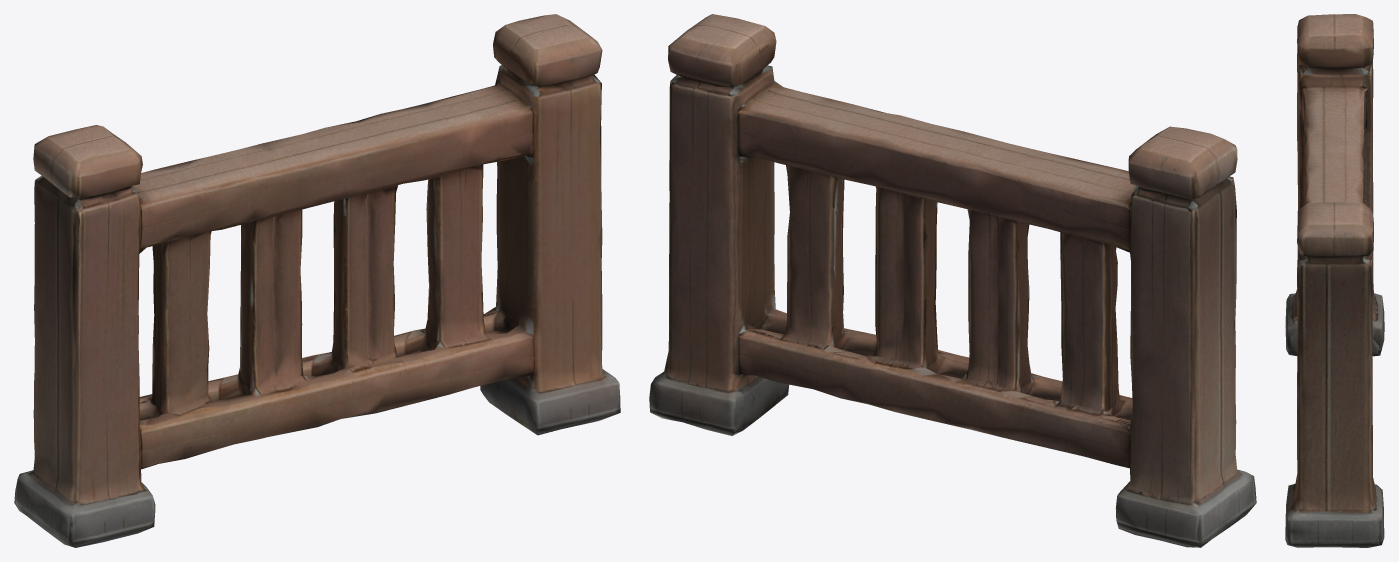
The picture shows the model from 3 angles, left to right: view 1: azimuth 30°, elevation 25°; view 2: azimuth 150°, elevation 25°; view 3: azimuth 270°, elevation 25°; orthographic projection. The views are drawn at different scales.
Visible parts, largest first — view 1: texture_mapping; view 2: texture_mapping; view 3: texture_mapping.
Boxes of the visible parts, x1,y1,x2,y2 form: texture_mapping: (14,14,620,547); texture_mapping: (649,14,1256,547); texture_mapping: (1285,14,1384,547).
Size of the model in its own units: 0.9873 by 0.6466 by 0.1818.
Materials: 1 (1 with a texture image).
